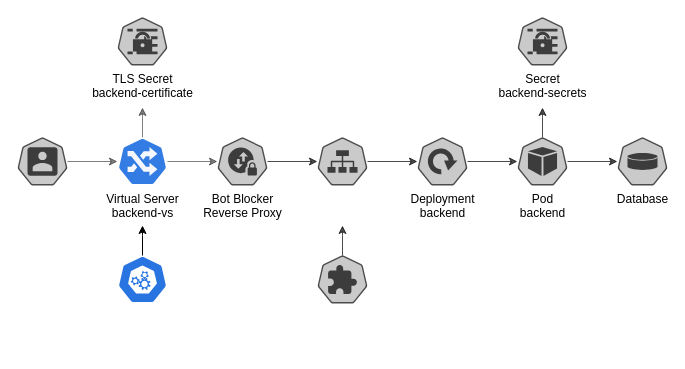
This 685x369 diagram has some shape labels left out. Each missing label, with the centre of its shape:
"ClusterIP Service backend" goes at point 342,161.
"Service Monitor backend-sm" goes at point 342,279.
"Store API Rate Limiting Policy" goes at point 142,279.
